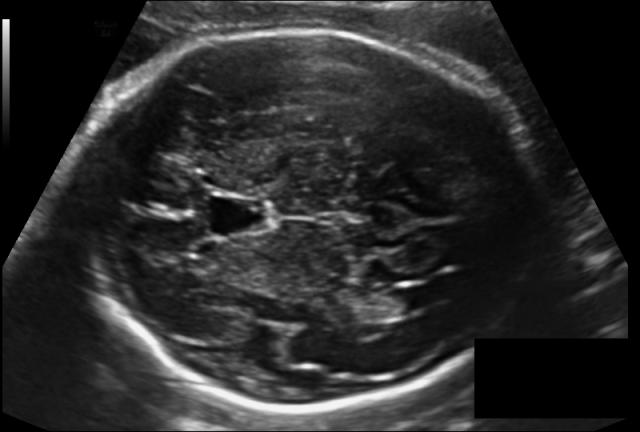CHOROID_PLEXUS: (326, 260, 414, 345)
CSP: (107, 167, 236, 255)
MIDLINE_FALX: (88, 172, 568, 260)
